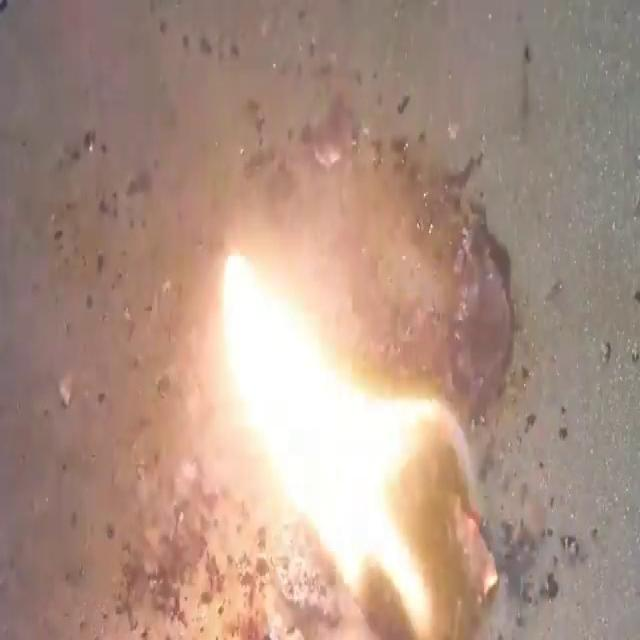Fire: (207, 240, 495, 636)
